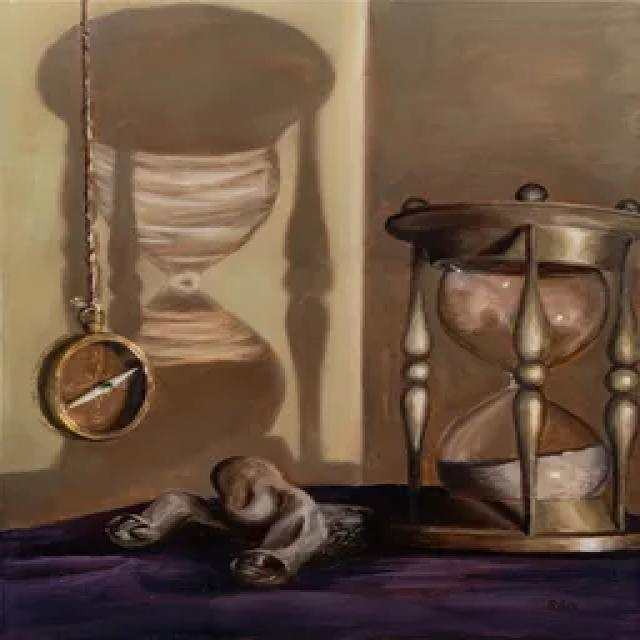clock: (372, 184, 640, 554)
